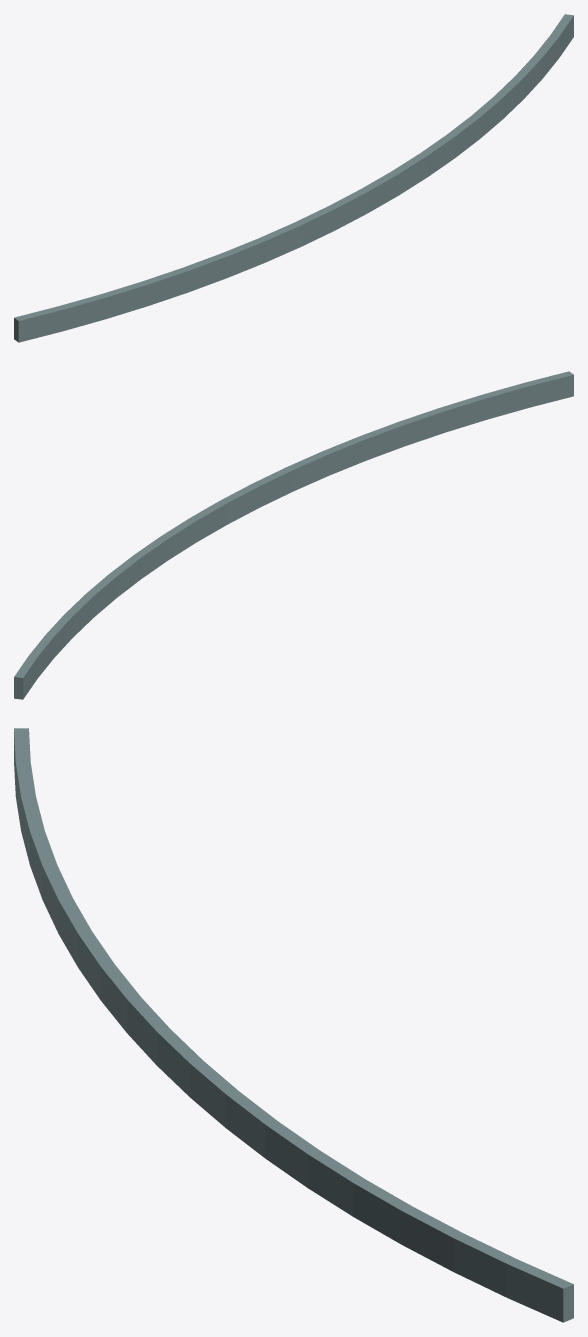
File: RoadPlan_WalkCurve_2L_A45_R18_Curb_1.glb
The picture shows the model from 3 angles, top to bottom: view 1: azimuth 30°, elevation 25°; view 2: azimuth 210°, elevation 25°; view 3: azimuth 270°, elevation 25°; orthographic projection. The views are drawn at different scales.
Parts seen in each view (by area): view 1: RoadPlan_WalkCurve_2L_A45_R18_Curb_1; view 2: RoadPlan_WalkCurve_2L_A45_R18_Curb_1; view 3: RoadPlan_WalkCurve_2L_A45_R18_Curb_1.
Boxes of the visible parts, x1,y1,x2,y2 form: RoadPlan_WalkCurve_2L_A45_R18_Curb_1: (14, 14, 573, 342); RoadPlan_WalkCurve_2L_A45_R18_Curb_1: (14, 371, 573, 699); RoadPlan_WalkCurve_2L_A45_R18_Curb_1: (14, 728, 573, 1322).
Bounding box in the file's own units: 10.61 × 0.3 × 4.48.
